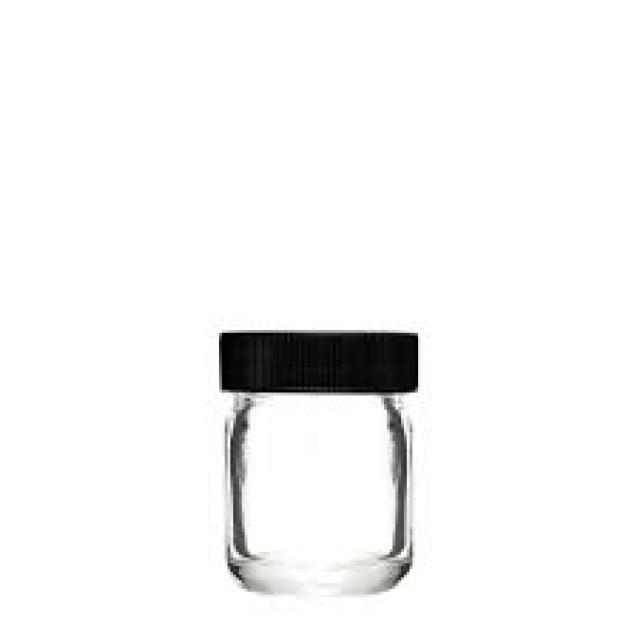Anorganik: (225, 386, 412, 592), (216, 327, 413, 395)
